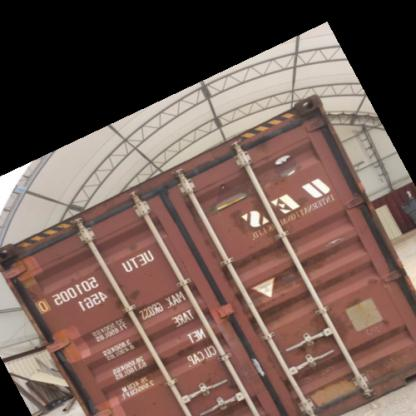Damage: (205, 158, 289, 208), (244, 250, 320, 300), (111, 274, 143, 336)
